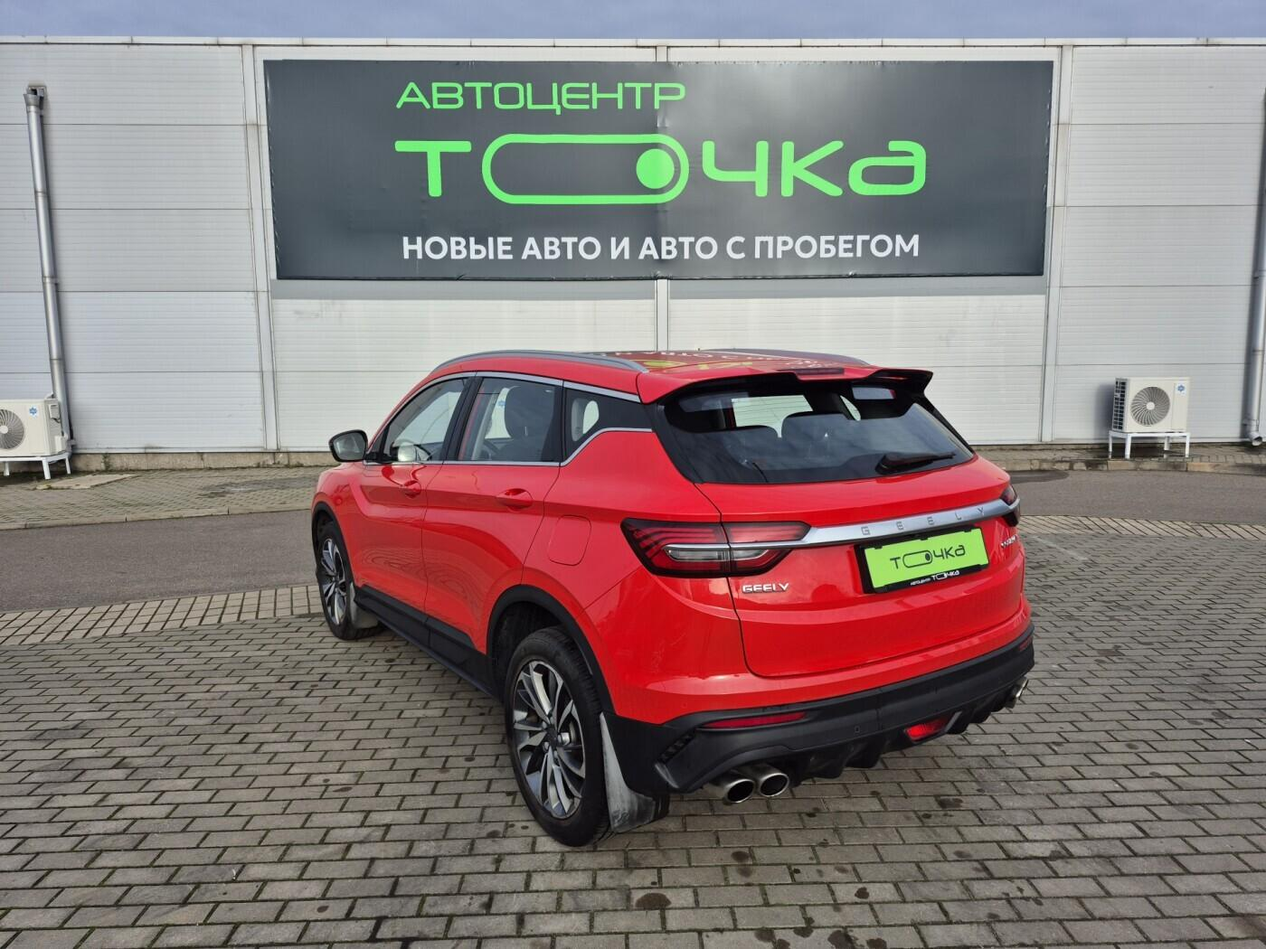Coolray_2019-2023: (307, 342, 1045, 852)
